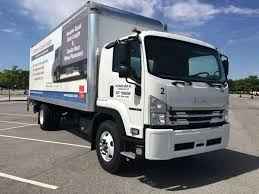truck: (27, 1, 230, 174)
